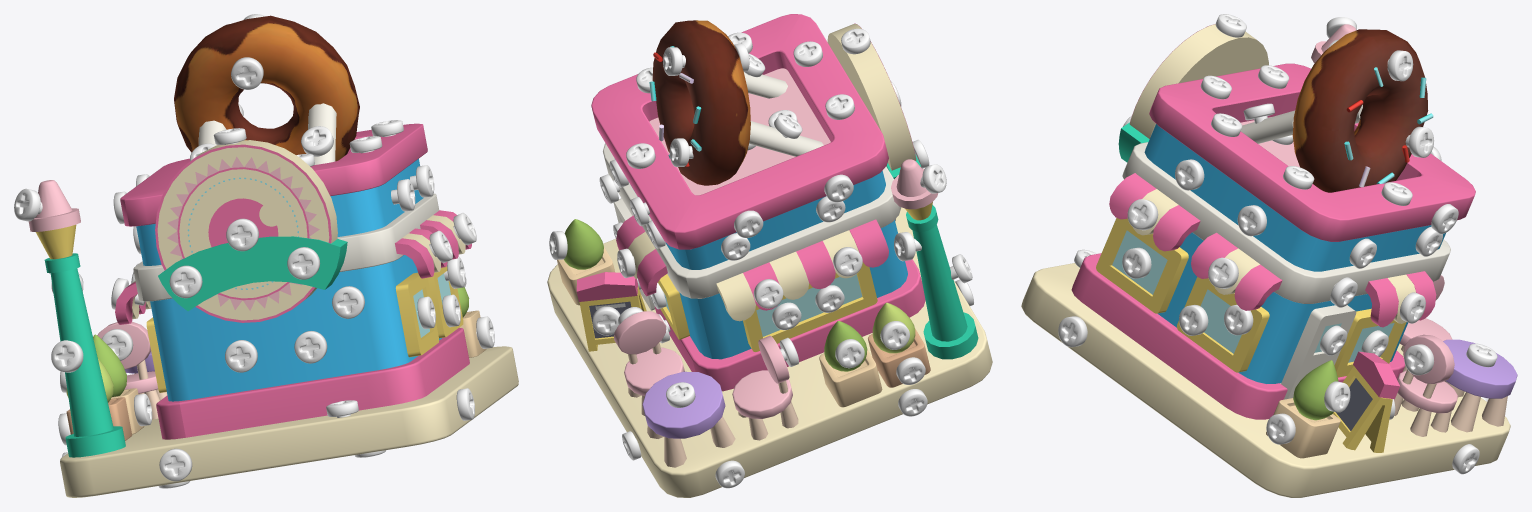
File: DonutShop.fbx
The picture shows the model from 3 angles, left to right: view 1: azimuth 30°, elevation 25°; view 2: azimuth 150°, elevation 25°; view 3: azimuth 270°, elevation 25°; orthographic projection. The views are drawn at different scales.
Visible parts, largest first — view 1: DonutShop.033, DonutShop.047, DonutShop.016, DonutShop.050, DonutShop.003, DonutShop.011, DonutShop.041, DonutShop.002, Screw (×5), DonutShop.036, Screw (2) (×3), Screw (3) (×3) (+23 smaller); view 2: DonutShop.016, DonutShop.051, DonutShop.023, DonutShop.003, Screw (×10), DonutShop.034, DonutShop.036, DonutShop.011, DonutShop.010, DonutShop.043, DonutShop.033, DonutShop.039 (+30 smaller); view 3: DonutShop.016, DonutShop.027, Screw (×13), DonutShop.002, DonutShop.006, DonutShop.050, DonutShop.034, DonutShop.033, DonutShop.046, DonutShop.051, Screw (1) (×7), DonutShop.040 (+24 smaller).
Part boxes in pixels (x1,y1,x2,y2): DonutShop.033: (155, 140, 347, 322); DonutShop.047: (154, 265, 398, 401); DonutShop.016: (174, 15, 359, 161); DonutShop.050: (245, 373, 485, 470); DonutShop.003: (60, 423, 252, 497); DonutShop.011: (44, 253, 125, 457); DonutShop.041: (179, 372, 371, 437); DonutShop.002: (365, 327, 469, 408); Screw (×5): (14, 165, 434, 372); DonutShop.036: (124, 161, 371, 226); Screw (2) (×3): (169, 57, 364, 318); Screw (3) (×3): (159, 247, 320, 481); DonutShop.016: (649, 20, 750, 185); DonutShop.051: (602, 346, 837, 497); DonutShop.023: (674, 140, 886, 249); DonutShop.003: (799, 251, 992, 440); Screw (×10): (592, 47, 946, 407); DonutShop.034: (591, 97, 695, 249); DonutShop.036: (780, 14, 888, 164); DonutShop.011: (906, 205, 978, 359); DonutShop.010: (642, 371, 735, 467); DonutShop.043: (693, 269, 925, 391); DonutShop.033: (827, 23, 921, 178); DonutShop.039: (686, 192, 898, 298); DonutShop.016: (1292, 29, 1433, 192); DonutShop.027: (1144, 368, 1408, 497); Screw (×13): (1122, 50, 1497, 444); DonutShop.002: (1071, 253, 1287, 419); DonutShop.006: (1149, 92, 1330, 239); DonutShop.050: (1021, 263, 1171, 402); DonutShop.034: (1321, 174, 1475, 241); DonutShop.033: (1118, 24, 1268, 162); DonutShop.046: (1144, 124, 1317, 269); DonutShop.051: (1387, 343, 1510, 480); Screw (1) (×7): (1127, 14, 1442, 335); DonutShop.040: (1122, 150, 1305, 301).
Bounding box in the file's own units: 10 × 9.51 × 9.68.
Materials: 3 (2 with a texture image).
